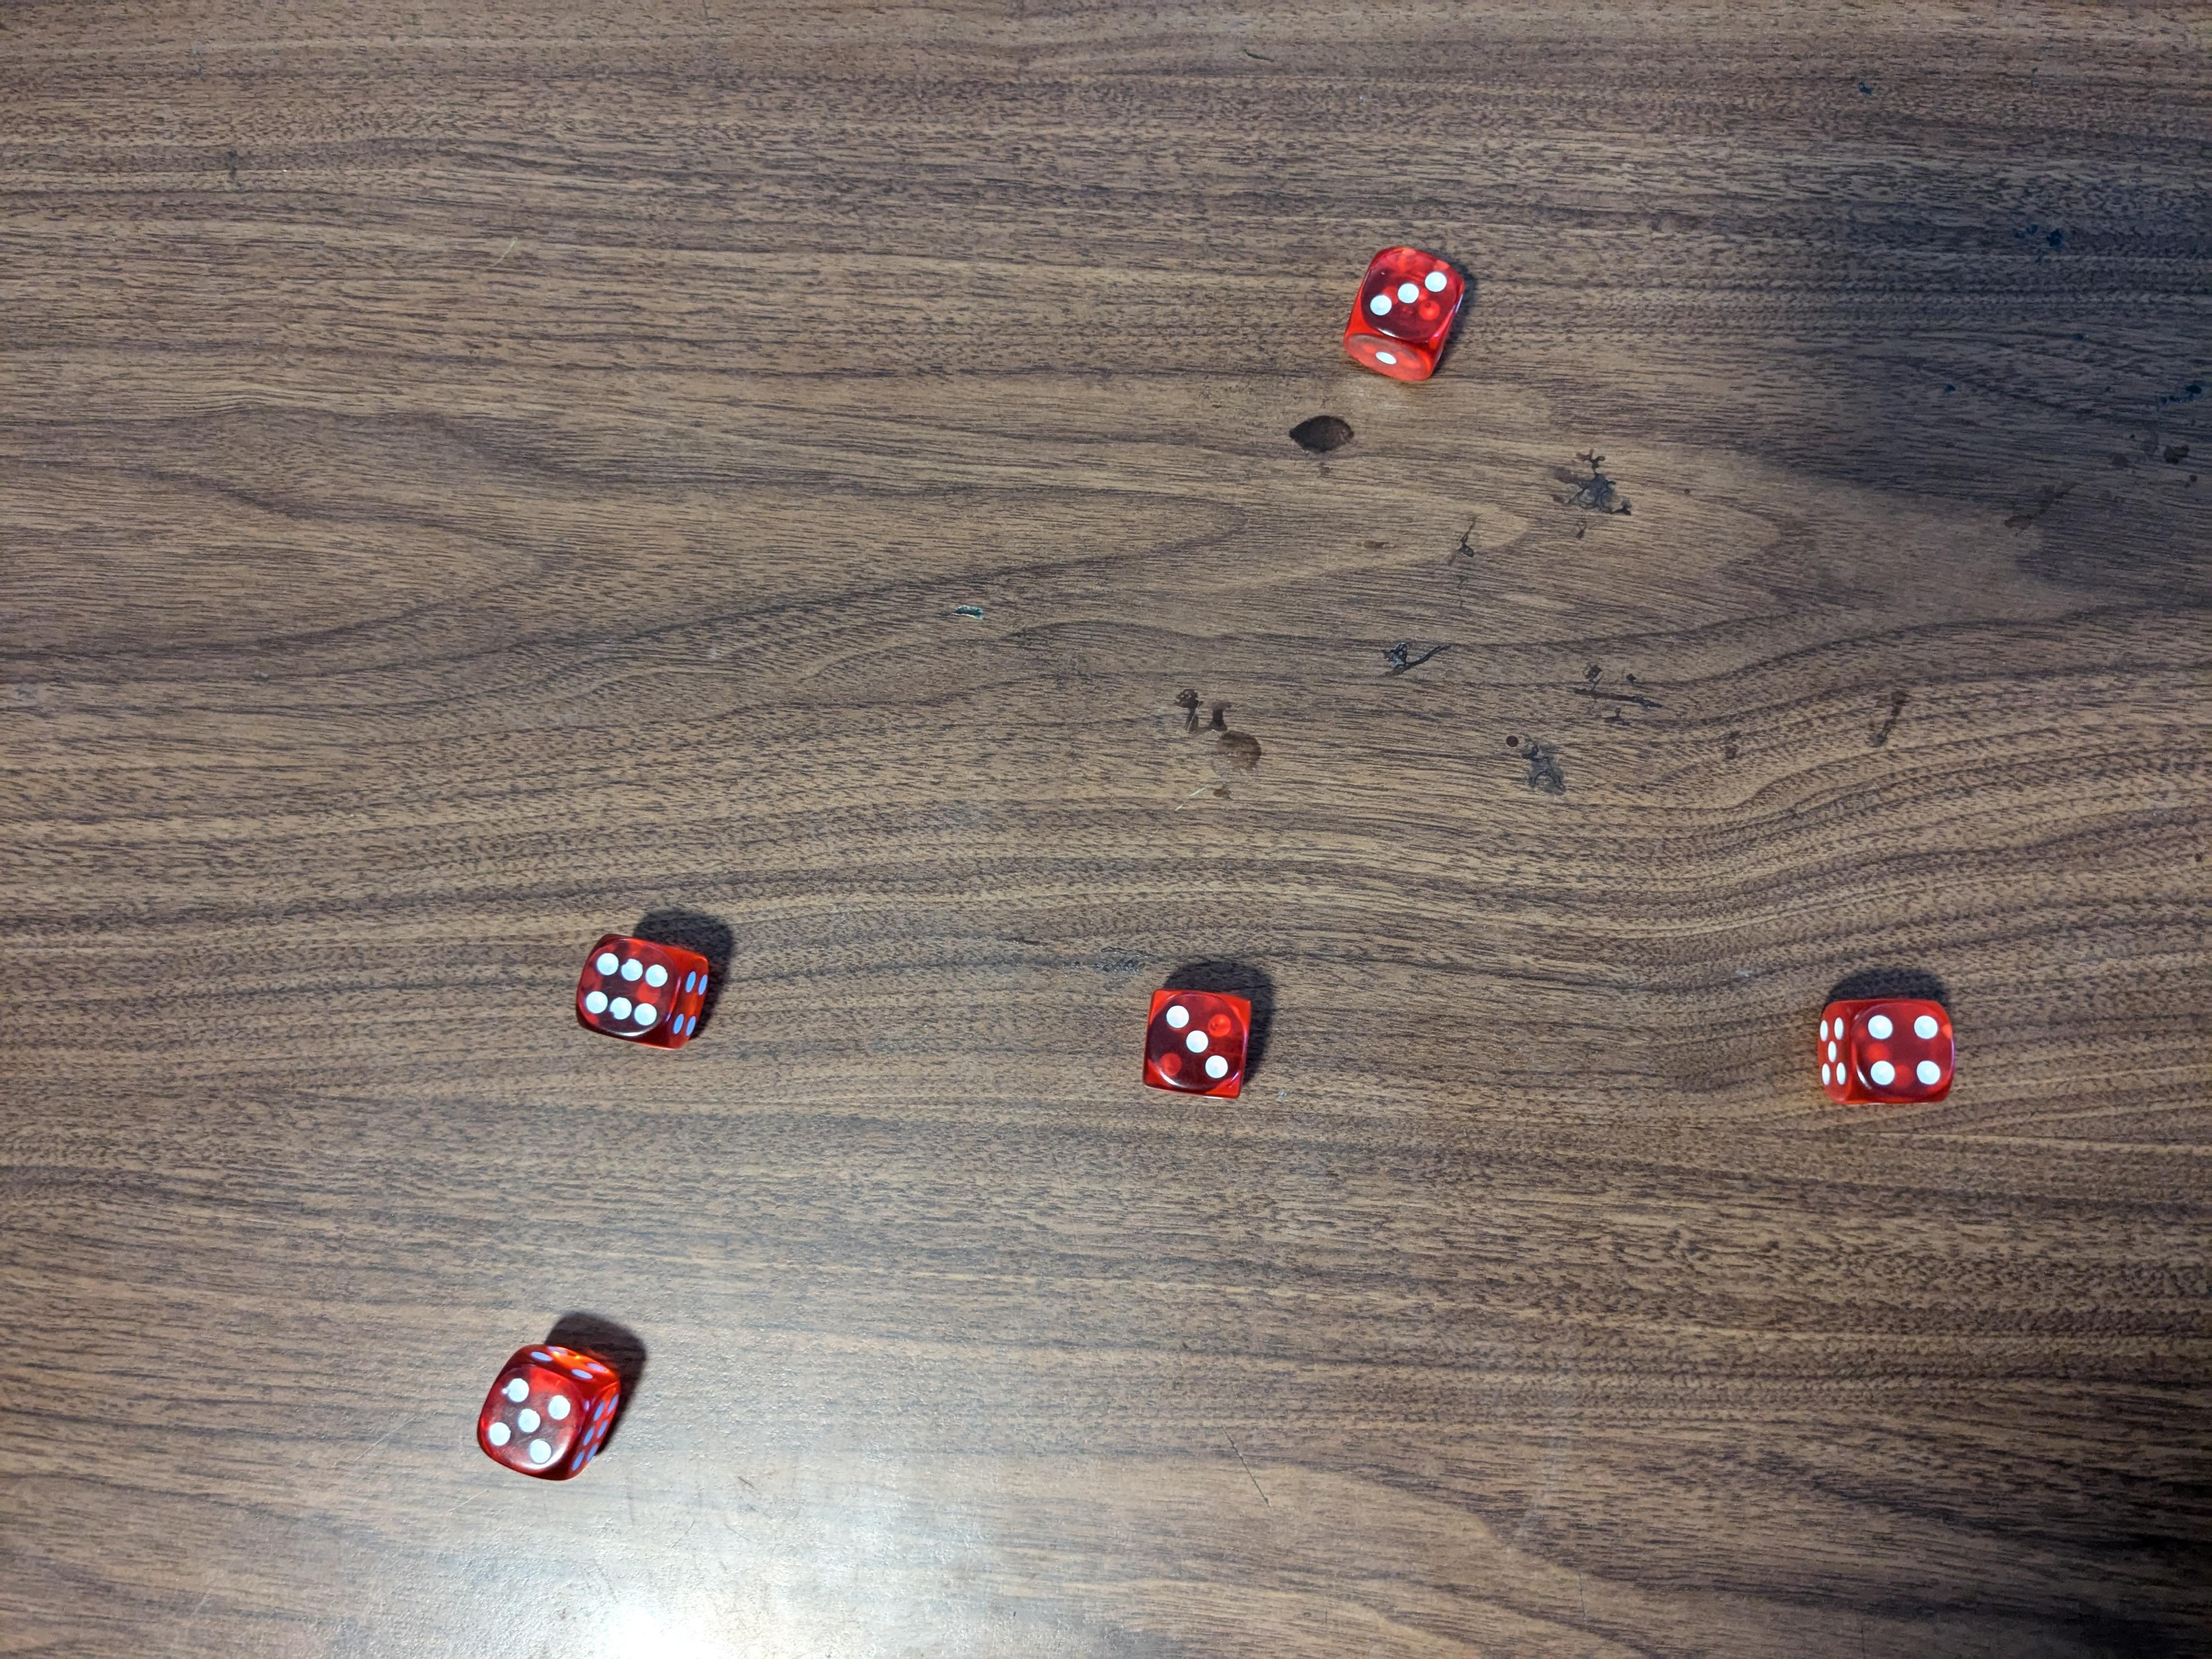five: (475, 1331, 629, 1481)
four: (1815, 990, 1956, 1108)
six: (575, 931, 714, 1053)
three: (1343, 246, 1474, 394), (1136, 985, 1268, 1103)
